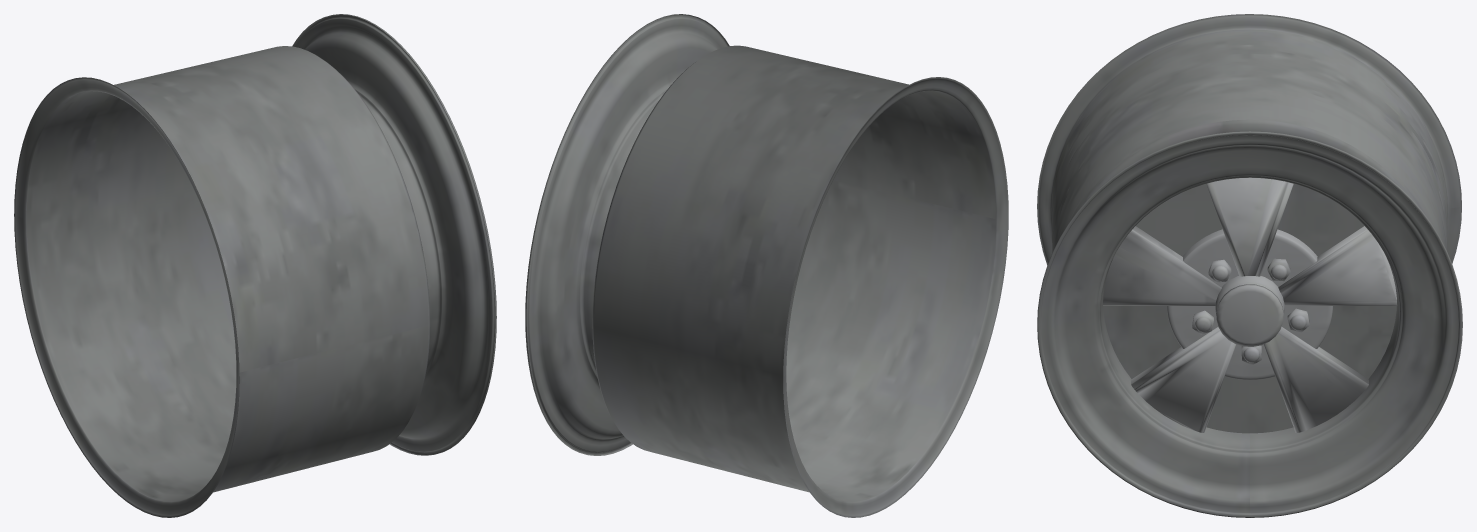
3 views of the same model, side by side, from view 1: azimuth 30°, elevation 25°; view 2: azimuth 150°, elevation 25°; view 3: azimuth 270°, elevation 25° (orthographic). The views are drawn at different scales.
Parts seen in each view (by area): view 1: Strato; view 2: Strato; view 3: Strato.
Part boxes in pixels (bbox=[...]): Strato: bbox=[14, 14, 496, 517]; Strato: bbox=[525, 14, 1008, 517]; Strato: bbox=[1037, 14, 1462, 517].
Bounding box in the file's own units: 0.7731 × 1.17 × 1.18.
1 material, 1 textured.
